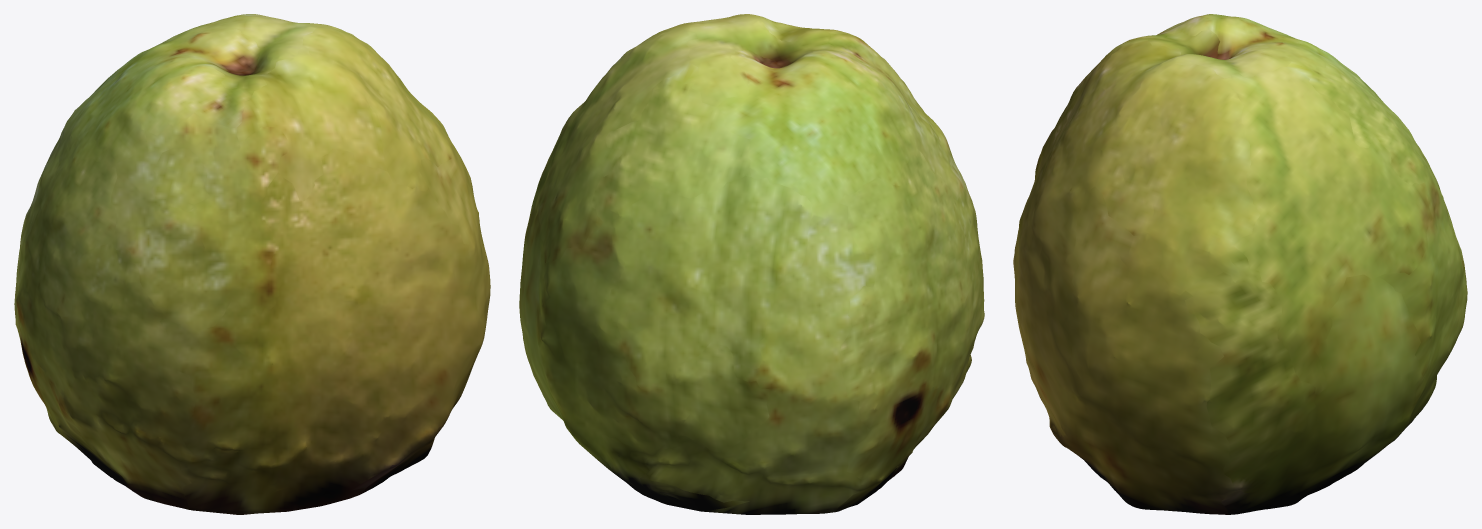
The model's file is guava.glb.
3 renders of one model, left to right at view 1: azimuth 30°, elevation 25°; view 2: azimuth 150°, elevation 25°; view 3: azimuth 270°, elevation 25°, orthographic. The views are drawn at different scales.
Parts seen in each view (by area): view 1: mesh_main_0; view 2: mesh_main_0; view 3: mesh_main_0.
Boxes of the visible parts, <box> form: mesh_main_0: <box>14,14,490,514</box>; mesh_main_0: <box>519,14,984,514</box>; mesh_main_0: <box>1013,14,1467,514</box>.
Bounding box in the file's own units: 0.1122 × 0.1071 × 0.1106.
Materials: 1 (1 with a texture image).
